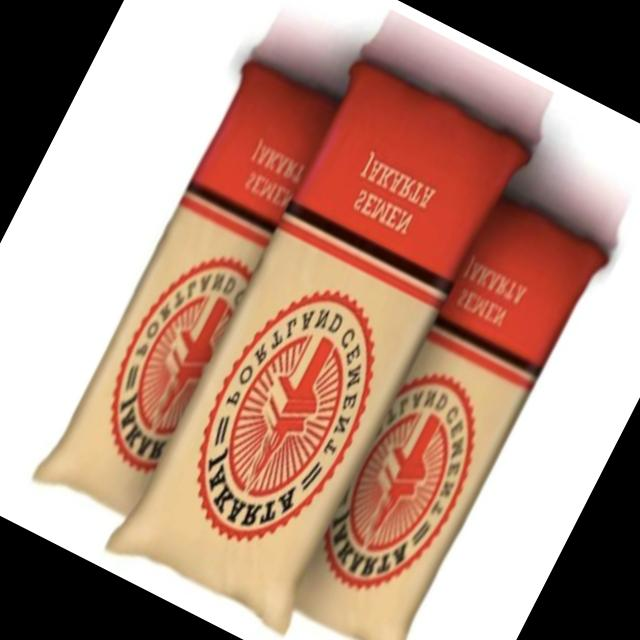KantongSemen: (100, 52, 536, 640), (264, 179, 615, 640), (31, 54, 358, 540)
